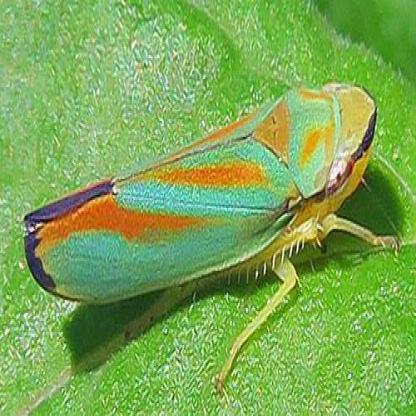green-leafhopper: (23, 81, 400, 392)
